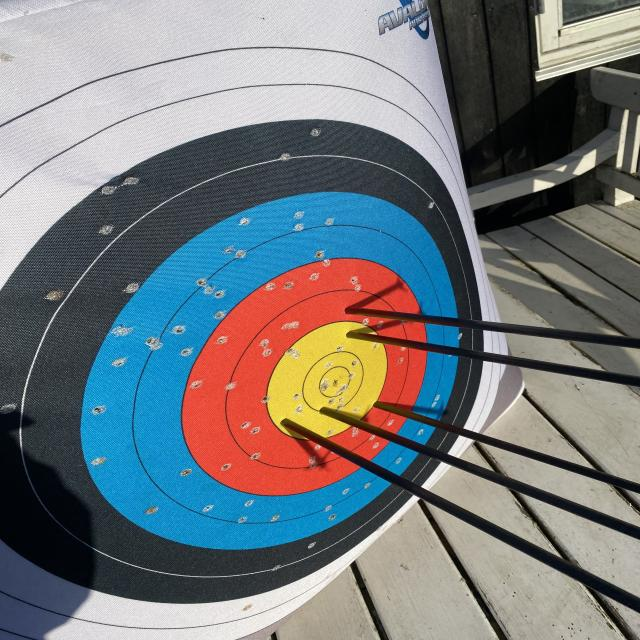Arrow_Red: (359, 392, 401, 417), (328, 298, 370, 322)
Arrow_Yellow: (266, 407, 302, 435), (308, 398, 342, 423), (338, 324, 372, 347)
